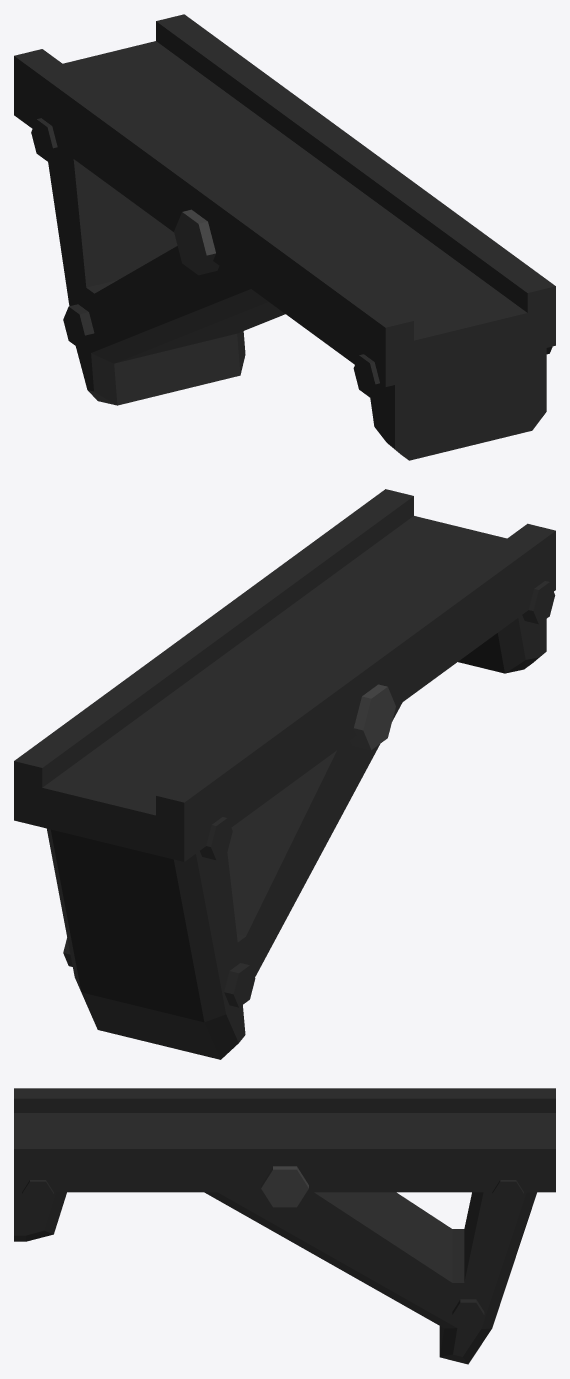
The model's file is ForwardGrip_A.fbx.
The picture shows the model from 3 angles, top to bottom: view 1: azimuth 30°, elevation 25°; view 2: azimuth 150°, elevation 25°; view 3: azimuth 270°, elevation 25°; orthographic projection. The views are drawn at different scales.
Parts seen in each view (by area): view 1: ForwardGrip_A; view 2: ForwardGrip_A; view 3: ForwardGrip_A.
Part boxes in pixels (x1,y1,x2,y2): ForwardGrip_A: (14, 14, 555, 460); ForwardGrip_A: (14, 489, 555, 1059); ForwardGrip_A: (14, 1088, 555, 1364).
Size of the model in its own units: 0.2 by 0.31 by 0.68.
